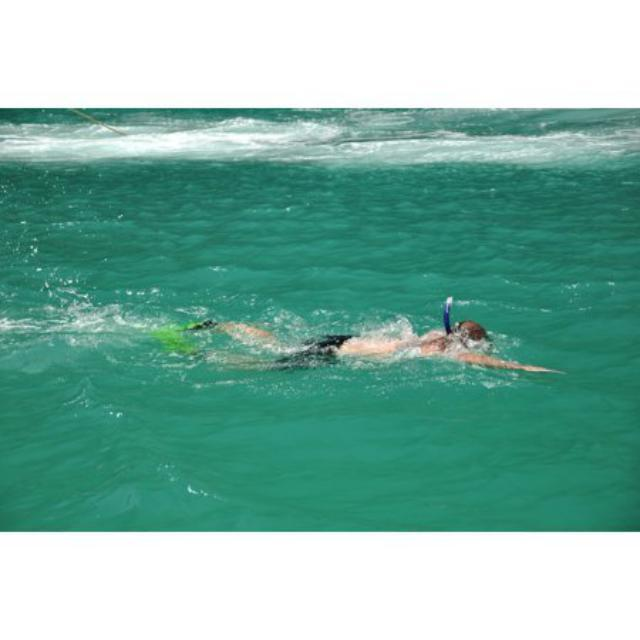human: (192, 293, 560, 376)
